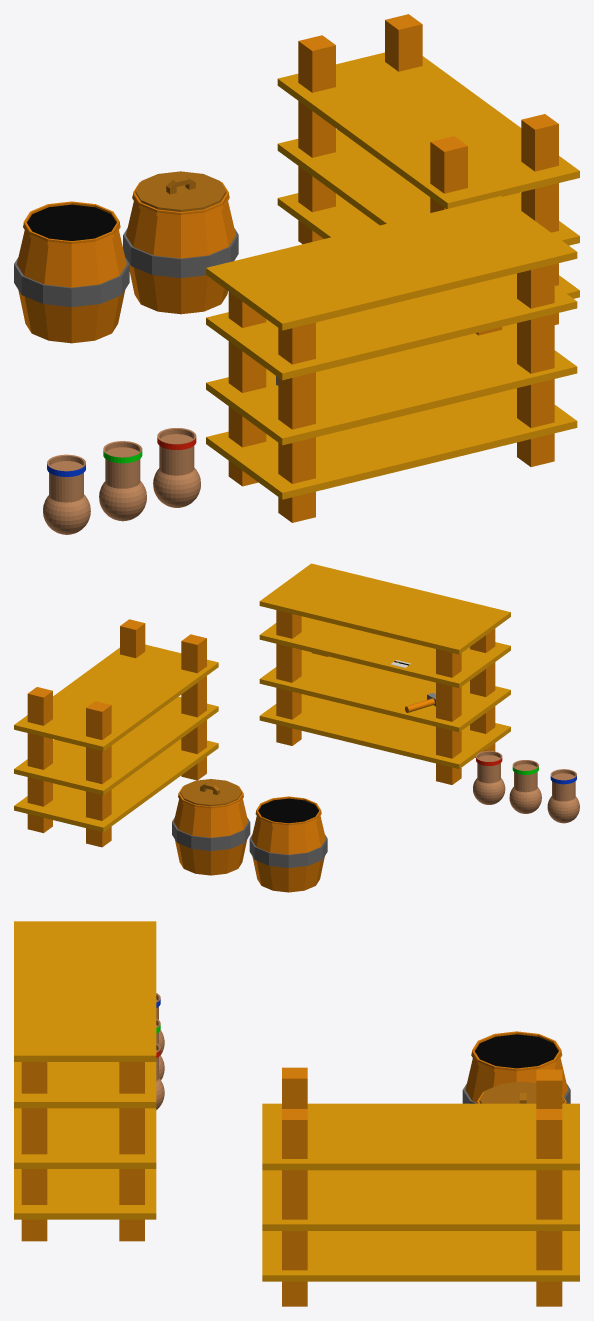
The model's file is storageRoomFurniture.fbx.
3 renders of one model, top to bottom at view 1: azimuth 30°, elevation 25°; view 2: azimuth 150°, elevation 25°; view 3: azimuth 270°, elevation 25°, orthographic. The views are drawn at different scales.
Parts seen in each view (by area): view 1: stele 2, stele, BARREL, VASE 2, VASE, VASE 3, CAP; view 2: stele 2, stele, BARREL, VASE 3, VASE 2, VASE, CAP; view 3: stele, stele 2, BARREL, CAP.
Boxes of the visible parts, <box> form: stele 2: <box>206,196,577,522</box>; stele: <box>277,14,579,324</box>; BARREL: <box>14,182,238,343</box>; VASE 2: <box>99,441,146,521</box>; VASE: <box>153,428,200,507</box>; VASE 3: <box>43,454,90,534</box>; CAP: <box>135,171,226,211</box>; stele 2: <box>259,563,510,784</box>; stele: <box>14,619,218,847</box>; BARREL: <box>172,786,327,892</box>; VASE 3: <box>547,769,579,823</box>; VASE 2: <box>509,760,541,813</box>; VASE: <box>473,751,505,804</box>; CAP: <box>180,779,241,806</box>; stele: <box>262,1067,579,1306</box>; stele 2: <box>14,921,156,1241</box>; BARREL: <box>462,1031,570,1103</box>; CAP: <box>479,1081,564,1103</box>.
Bounding box in the file's own units: 1254 × 444 × 1101.
